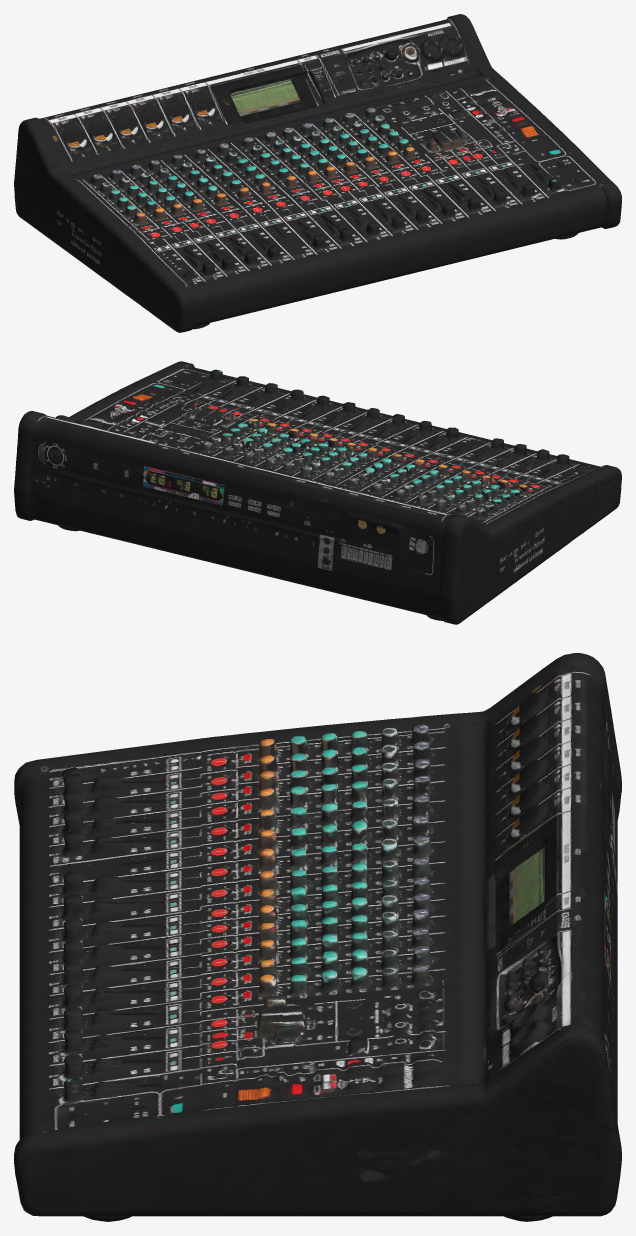
The model's file is mixer.glb.
The picture shows the model from 3 angles, top to bottom: view 1: azimuth 30°, elevation 25°; view 2: azimuth 150°, elevation 25°; view 3: azimuth 270°, elevation 25°; orthographic projection. The views are drawn at different scales.
Size of the model in its own units: 1.91 by 0.489 by 1.27.
Materials: 1 (1 with a texture image).
